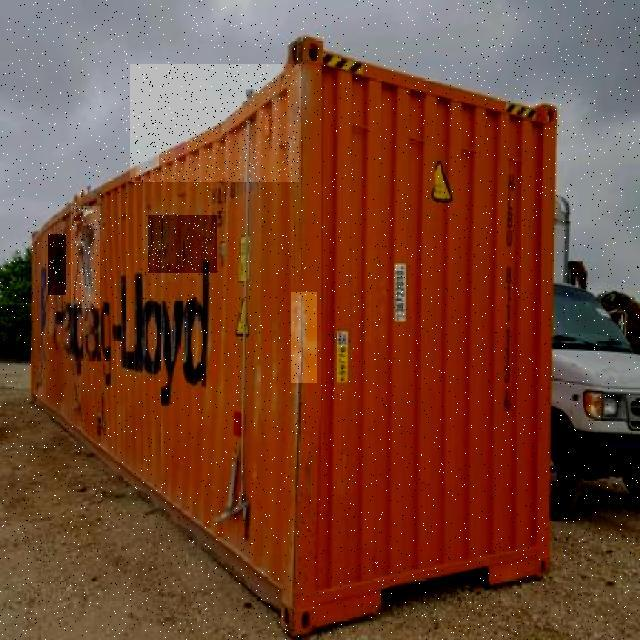Deframe: (131, 65, 300, 182)
Dent: (148, 216, 217, 276)
Minor-Dent: (291, 292, 317, 383), (48, 234, 66, 295)
Rust: (71, 206, 100, 308)
